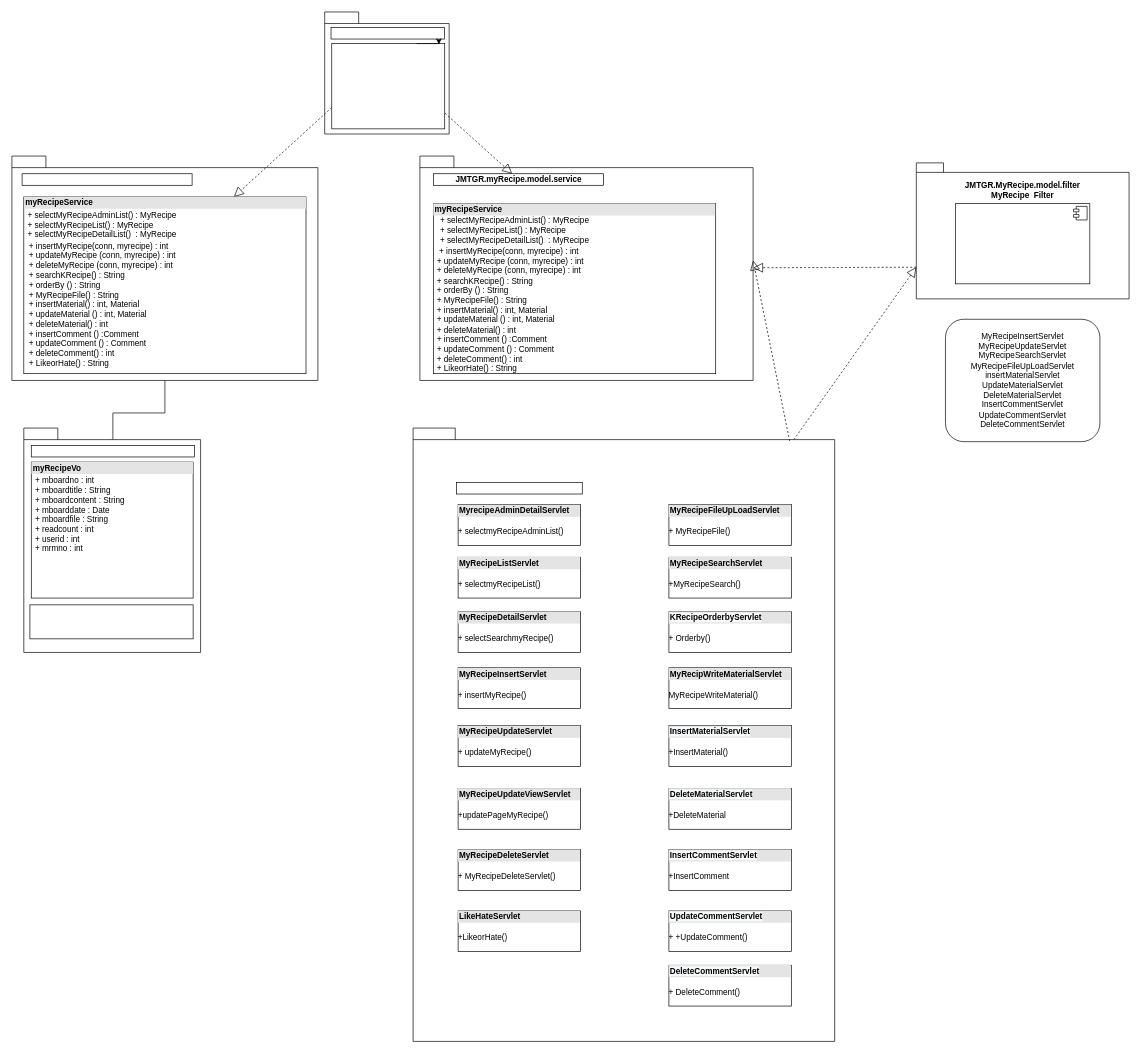
This 1141x1053 diagram has some shape labels left out. Each missing label, with the centre of its shape:
"+ myRecipe() + toString()" goes at (x=111, y=621).
"Filter + SessionCheckFilter *.ss + EncodingFilter *.ec" goes at (x=1022, y=243).
"JDBCTEMP + getConnection() +close() +commit() +rollback()" goes at (x=388, y=86).
"JMTGR.myRecipe. JMTGR.model.vo" goes at (x=112, y=451).
"JMTGR.myRecipe. model.dao" goes at (x=106, y=179).
"JMTGR.myRecipe.common" goes at (x=387, y=33).
"JMTGR.myRecipe.controller" goes at (x=519, y=488).
